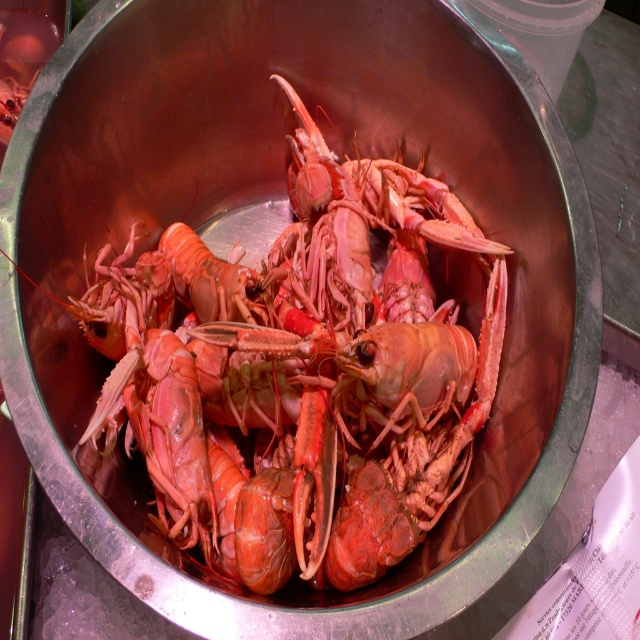Shrimp: (0, 75, 515, 597)
